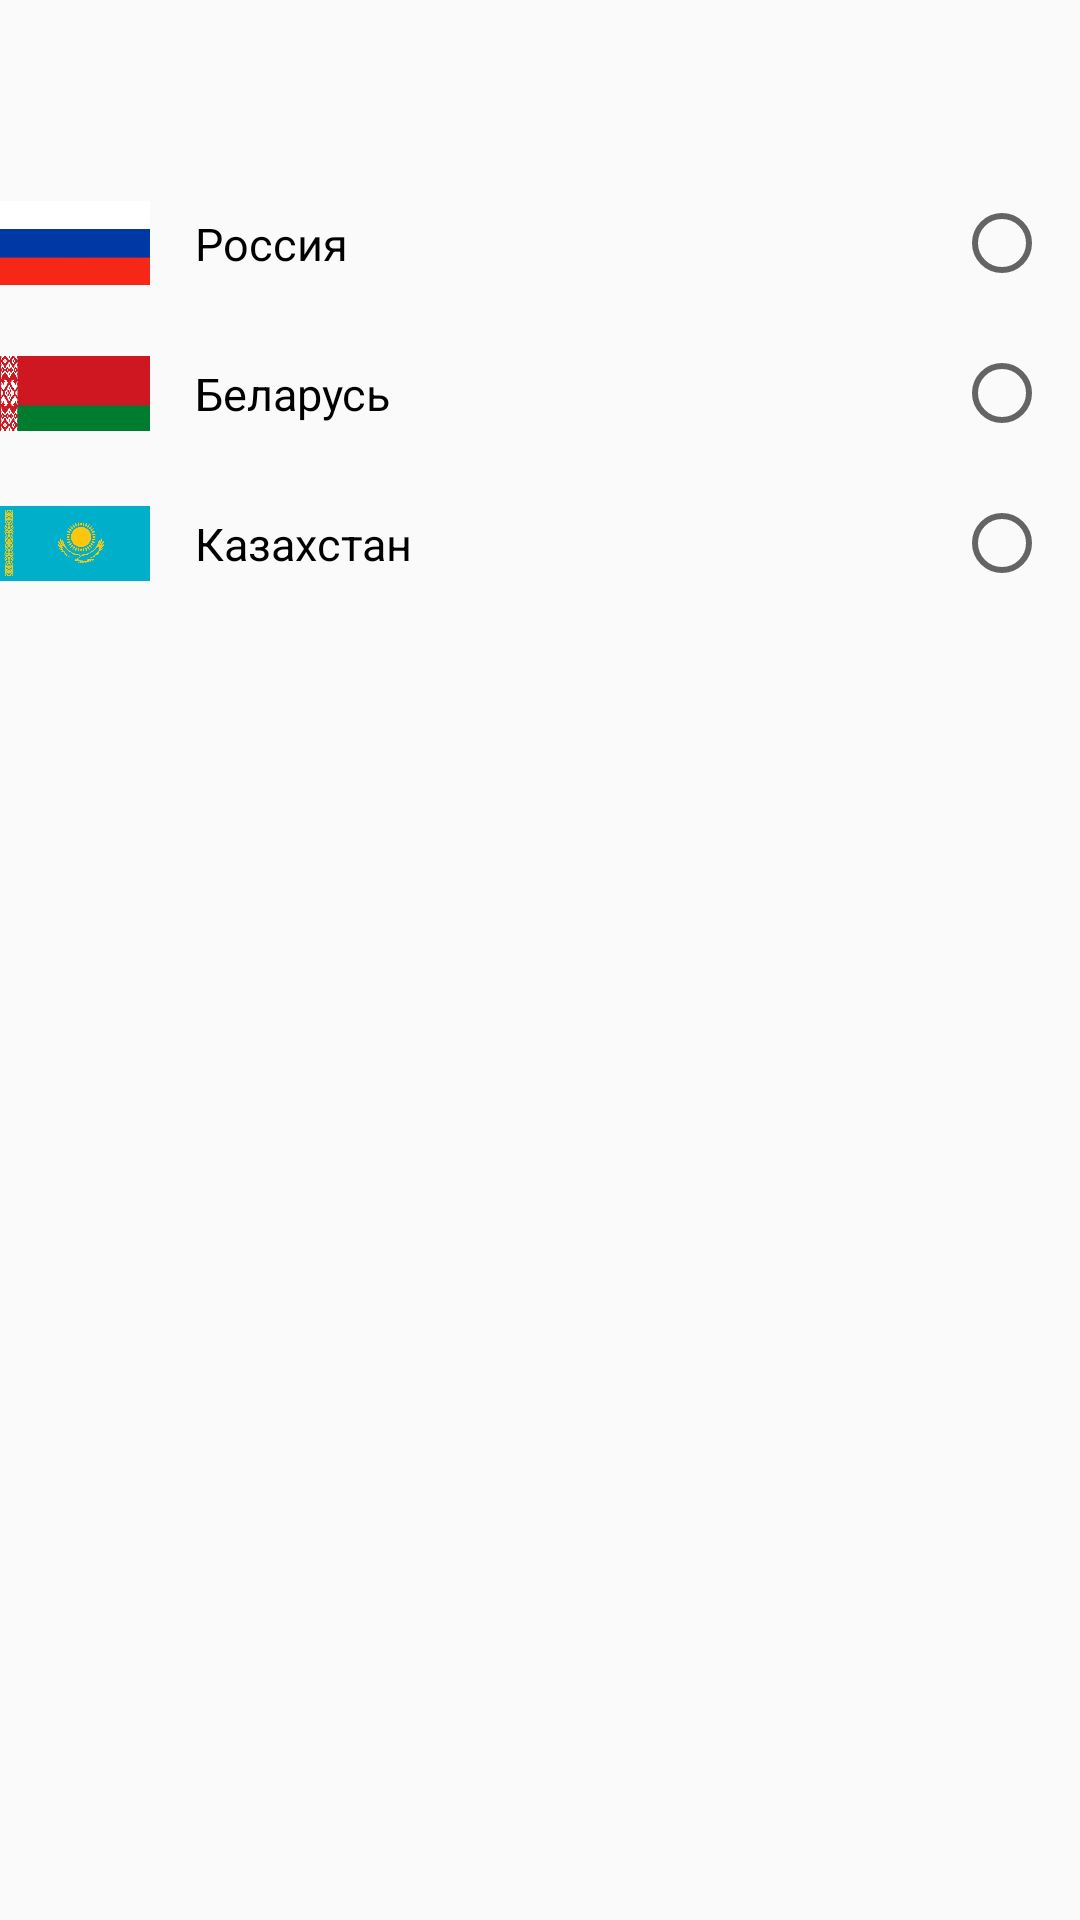

Named icons in this screenshot (1080 x 1920) and their bounding boxes, box=[x1, y1, x2, y2]:
belorussia: box=[0, 356, 150, 431]
kazachstan: box=[0, 506, 150, 581]
russia: box=[0, 229, 150, 285]
